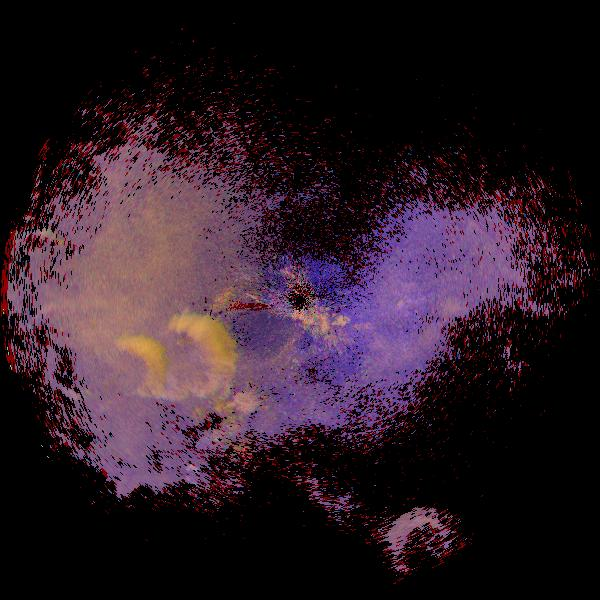roost: (131, 291, 254, 414), (72, 310, 189, 427)
